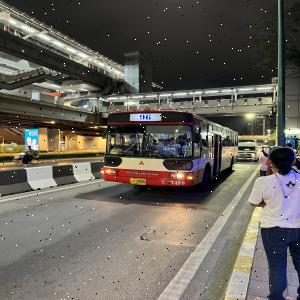BMTA-bus: (101, 109, 239, 189)
Bus Line Number: (130, 112, 162, 122)
Bus Side Number: (160, 180, 186, 188)
Destination Sign: (155, 145, 179, 155)
